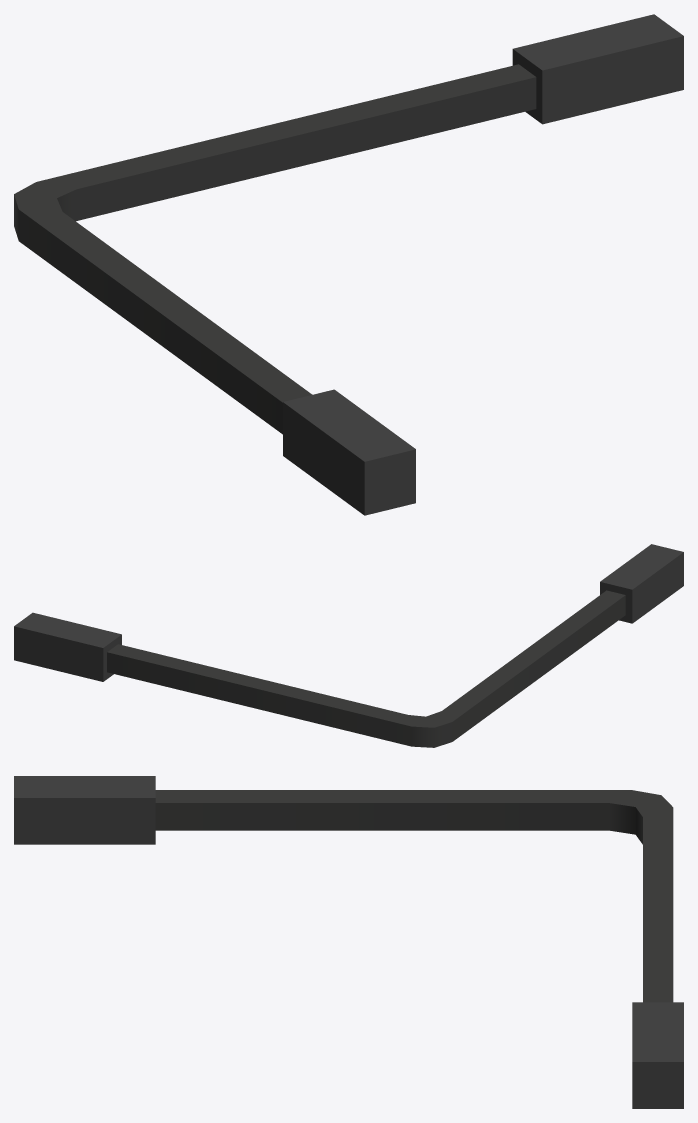
The model's file is Cable_B_2_3.fbx.
The picture shows the model from 3 angles, top to bottom: view 1: azimuth 30°, elevation 25°; view 2: azimuth 150°, elevation 25°; view 3: azimuth 270°, elevation 25°; orthographic projection. The views are drawn at different scales.
Visible parts, largest first — view 1: Cable_B_2_3; view 2: Cable_B_2_3; view 3: Cable_B_2_3.
Part boxes in pixels (x1,y1,x2,y2): Cable_B_2_3: (14,14,683,515); Cable_B_2_3: (14,544,683,747); Cable_B_2_3: (14,776,683,1108).
Bounding box in the file's own units: 129 × 9.83 × 128.
